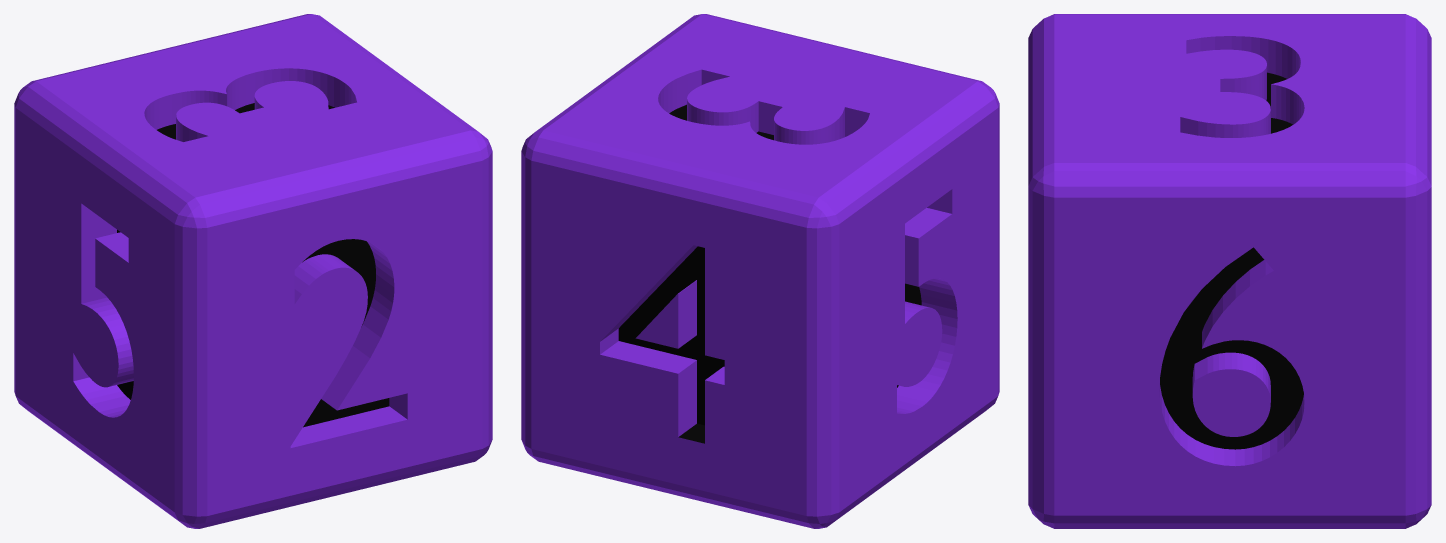
3 renders of one model, left to right at view 1: azimuth 30°, elevation 25°; view 2: azimuth 150°, elevation 25°; view 3: azimuth 270°, elevation 25°, orthographic. The views are drawn at different scales.
Parts seen in each view (by area): view 1: D6; view 2: D6; view 3: D6.
Part boxes in pixels (<box>): D6: <box>14,14,492,528</box>; D6: <box>521,14,999,528</box>; D6: <box>1028,14,1431,528</box>.
Bounding box in the file's own units: 16 × 16 × 16.
